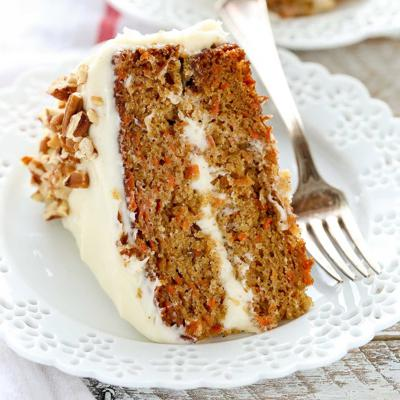cake: (30, 21, 319, 349)
